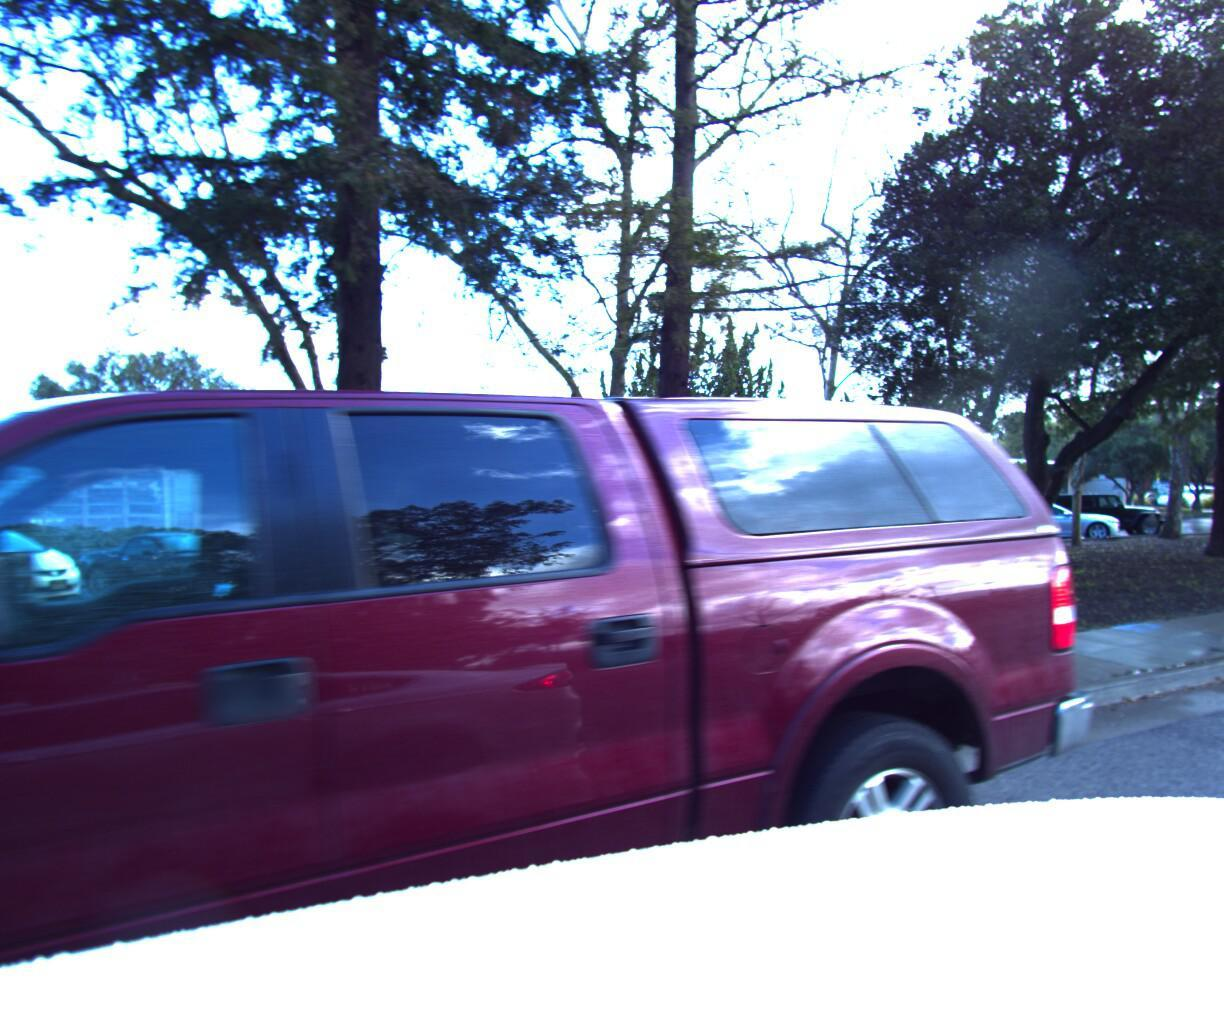car: (0, 45, 1138, 1024)
